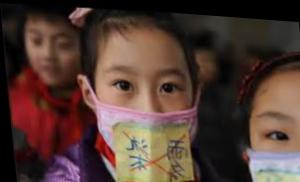NONE: (23, 23, 84, 88)
OK: (240, 93, 300, 182)
WRONG: (87, 49, 197, 165)
